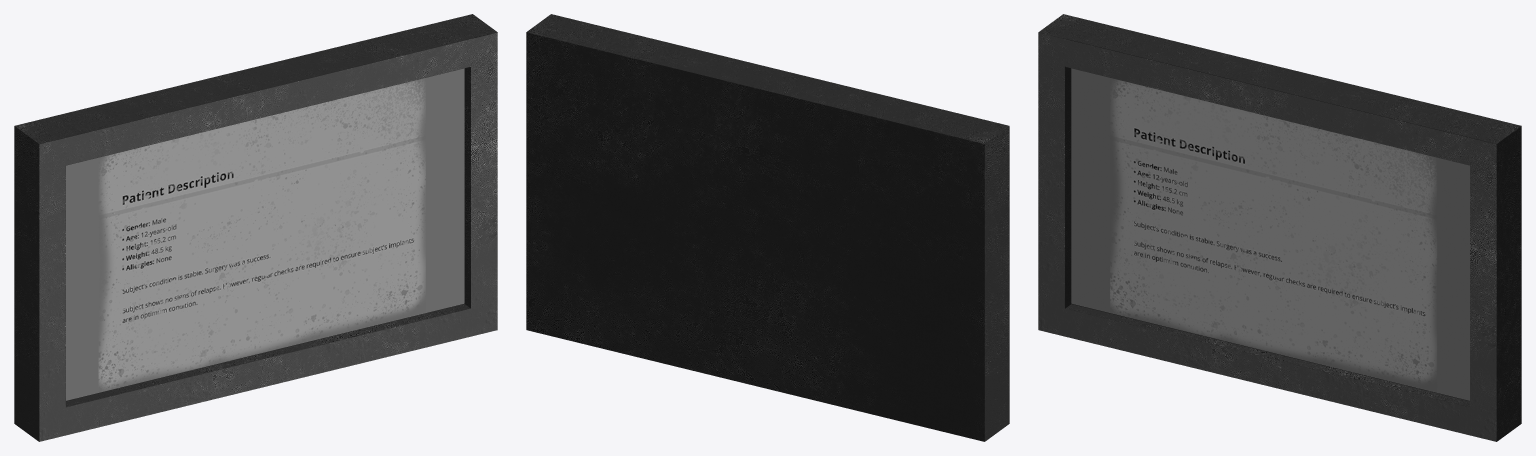
File: Poster.fbx
The picture shows the model from 3 angles, left to right: view 1: azimuth 30°, elevation 25°; view 2: azimuth 150°, elevation 25°; view 3: azimuth 330°, elevation 25°; orthographic projection.
Parts seen in each view (by area): view 1: Poster; view 2: Poster; view 3: Poster.
Boxes of the visible parts, x1,y1,x2,y2 form: Poster: (14, 14, 497, 441); Poster: (526, 14, 1009, 441); Poster: (1038, 14, 1521, 441).
Bounding box in the file's own units: 240 × 149 × 22.65.
1 material, 1 textured.
